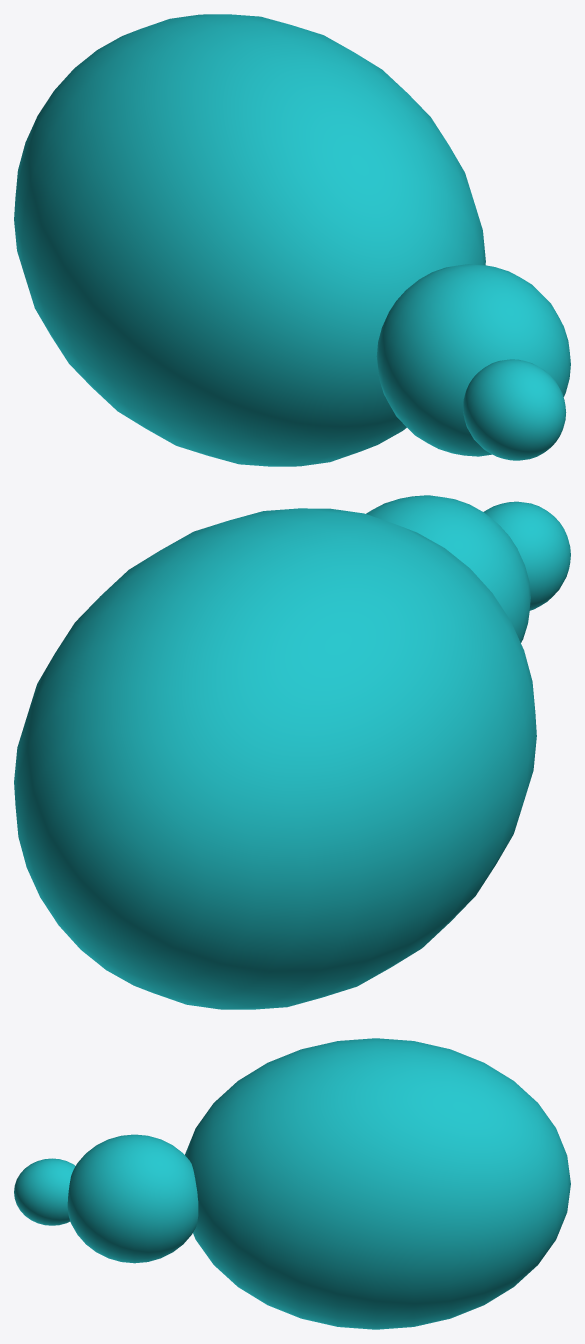
3 views of the same model, one above another, from view 1: azimuth 30°, elevation 25°; view 2: azimuth 150°, elevation 25°; view 3: azimuth 270°, elevation 25° (orthographic). The views are drawn at different scales.
Visible parts, largest first — view 1: Sphere001; view 2: Sphere001; view 3: Sphere001.
Boxes of the visible parts, <box> form: Sphere001: <box>14,14,570,466</box>; Sphere001: <box>14,495,570,1009</box>; Sphere001: <box>14,1038,570,1329</box>.
Bounding box in the file's own units: 52.14 × 52.14 × 99.51.
